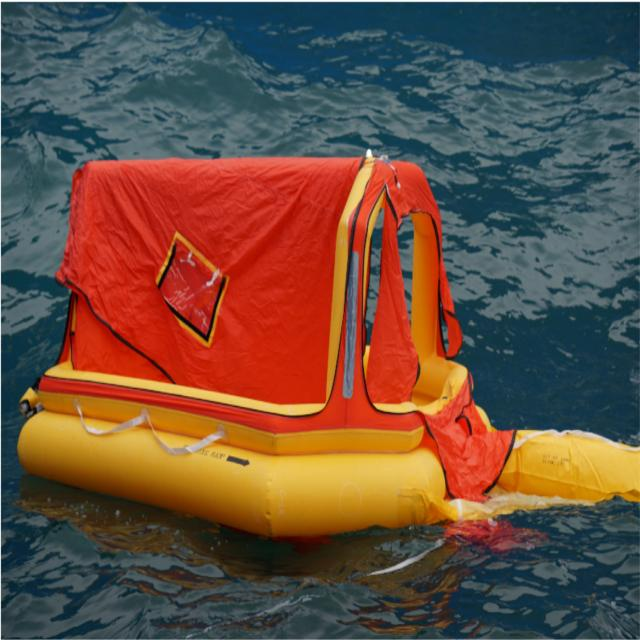Multi-person_life_raft: (16, 148, 639, 536)
